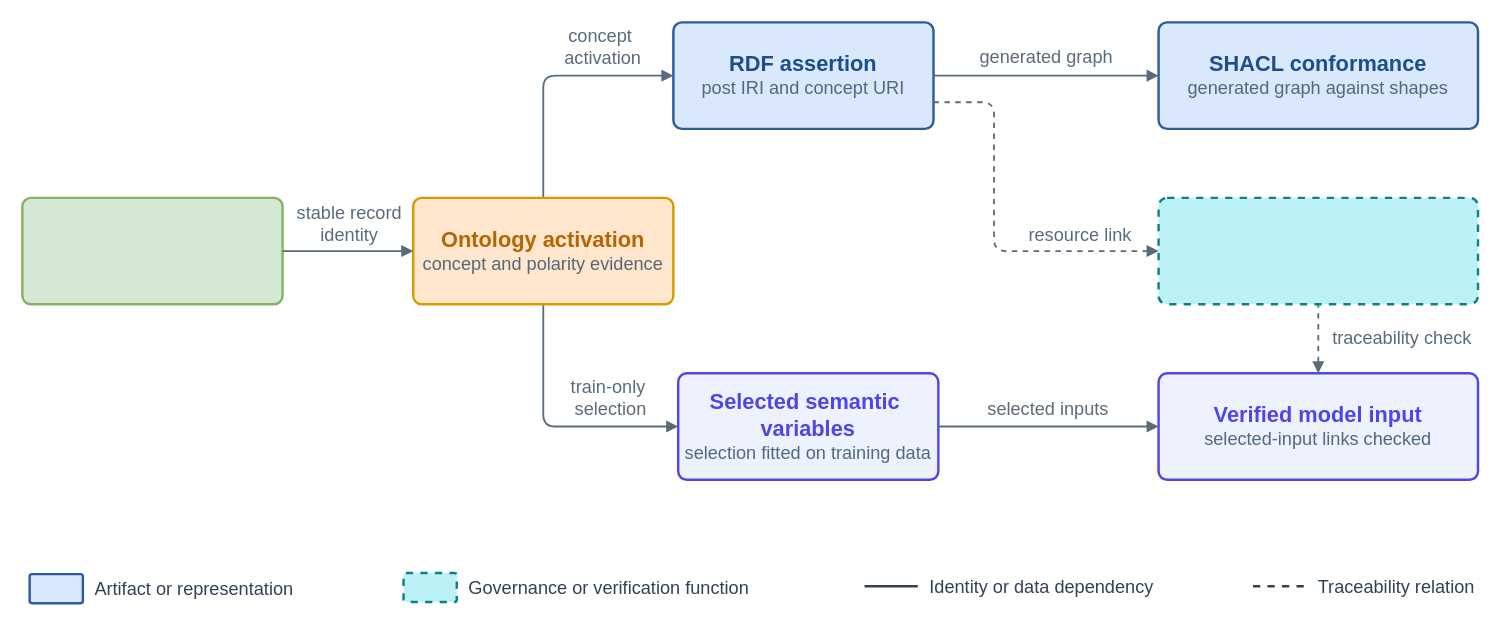
The diagram is 1502 pixels wide and 624 high, and some of its shapes have lost their labels. Here are the shapes that lost their labels. From the top down, the centre of each, then its label:
At point (152, 250): "Canonical post record source identity and split".
At point (1318, 250): "Traceability management post, RDF, semantic-variable, and model-input links".
